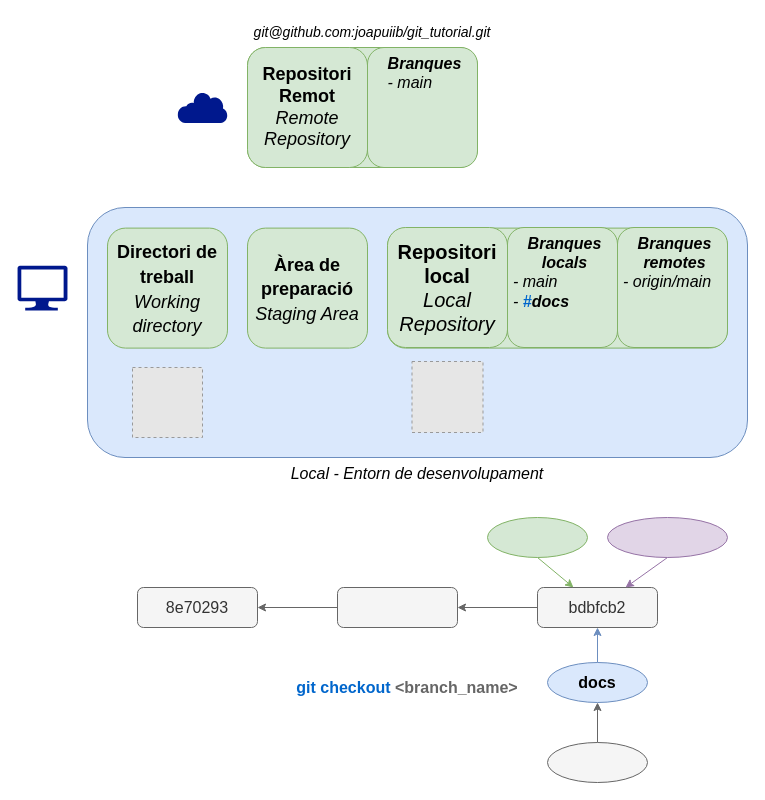
Image size: 765x800. Some labels were removed from this diagram. Grey dashed boxes stand in for pictures. The shapes that lost their labels are listed below. From the top down, each one's centre as x and y in pixels, then its label:
point (537, 537): main
point (667, 537): origin/main
point (397, 607): c9fc6c8
point (597, 762): HEAD
